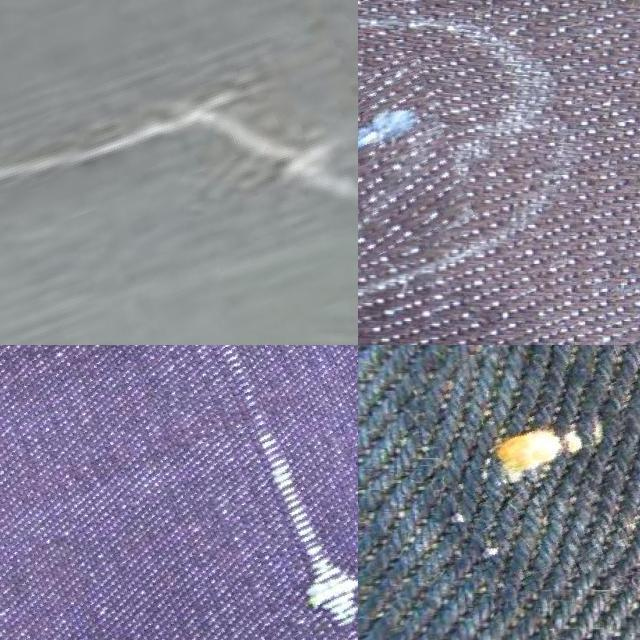Thread_other: (0, 345, 358, 640), (427, 345, 640, 589), (358, 70, 463, 288)
